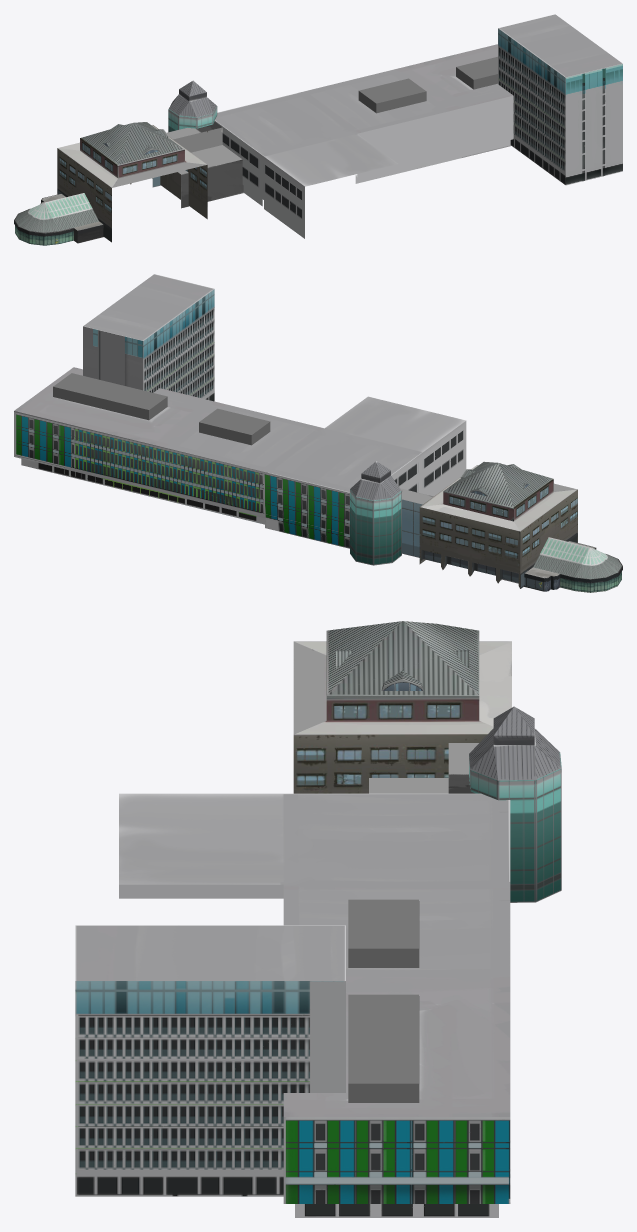
File: Sauder.obj
3 renders of one model, top to bottom at view 1: azimuth 30°, elevation 25°; view 2: azimuth 150°, elevation 25°; view 3: azimuth 270°, elevation 25°, orthographic. The views are drawn at different scales.
Parts seen in each view (by area): view 1: sauder2_Mesh.001; view 2: sauder2_Mesh.001; view 3: sauder2_Mesh.001.
Boxes of the visible parts, left/top/right/bottom form: sauder2_Mesh.001: left=14, top=14, right=622, bottom=245; sauder2_Mesh.001: left=14, top=274, right=622, bottom=592; sauder2_Mesh.001: left=75, top=621, right=561, bottom=1217.
Size of the model in its own units: 0.1183 by 0.0226 by 0.0456.
4 materials, 3 textured.
